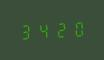four: (35, 20, 51, 40)
three: (18, 21, 34, 40)
two: (52, 19, 68, 39)
zero: (69, 19, 85, 38)
